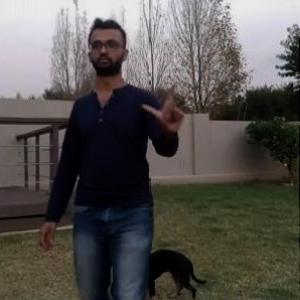land_hand: (139, 73, 185, 133)
